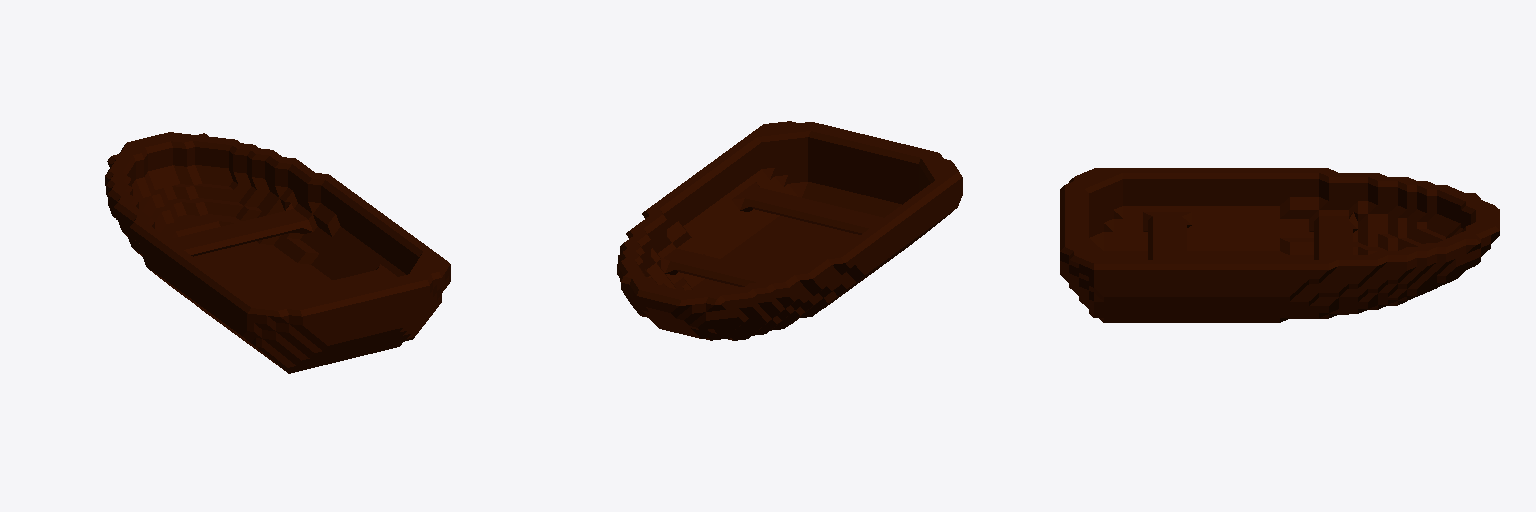
Rendered from boat.obj.
3 renders of one model, left to right at view 1: azimuth 30°, elevation 25°; view 2: azimuth 150°, elevation 25°; view 3: azimuth 270°, elevation 25°, orthographic.
Parts seen in each view (by area): view 1: Boat; view 2: Boat; view 3: Boat.
Boxes of the visible parts, <box> form: Boat: <box>105,132,450,373</box>; Boat: <box>617,121,962,340</box>; Boat: <box>1060,168,1499,322</box>.
Bounding box in the file's own units: 2.4 × 0.9 × 4.5.